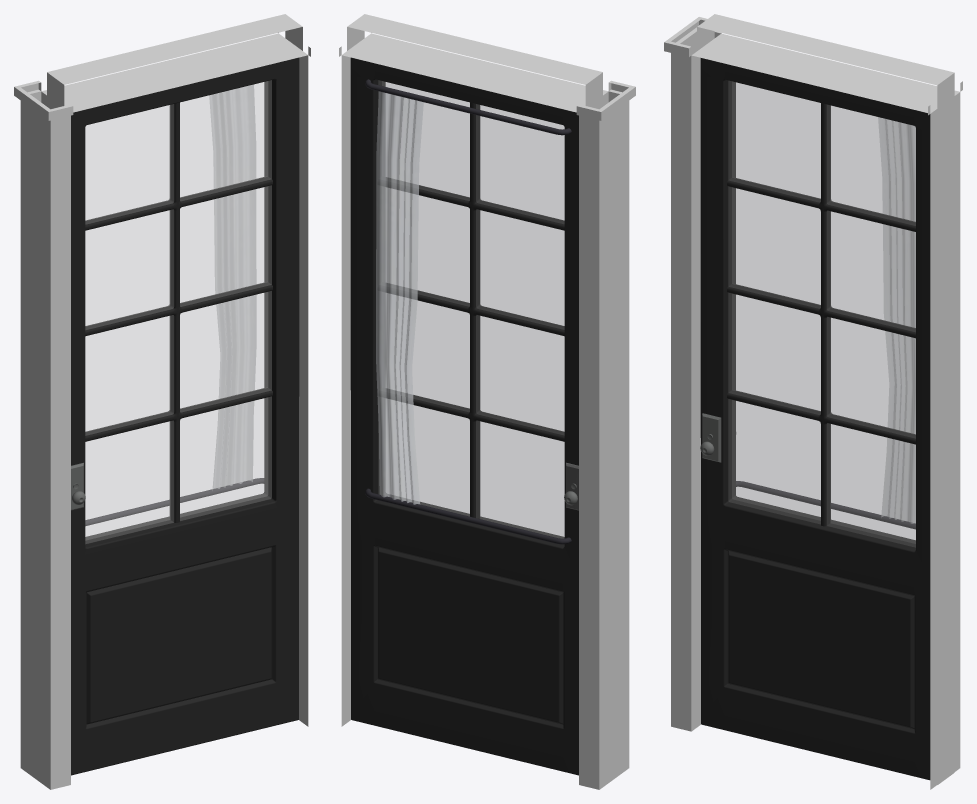
File: american-house.glb
3 views of the same model, side by side, from view 1: azimuth 30°, elevation 25°; view 2: azimuth 150°, elevation 25°; view 3: azimuth 330°, elevation 25° (orthographic).
Parts seen in each view (by area): view 1: Object_33, Object_34, Object_9, Object_37, Object_36, Object_35; view 2: Object_33, Object_34, Object_9, Object_37, Object_36, Object_35; view 3: Object_33, Object_34, Object_9, Object_37, Object_36, Object_35.
Part boxes in pixels (x1,y1,x2,y2): Object_33: [71, 57, 299, 775]; Object_34: [85, 80, 271, 543]; Object_9: [14, 14, 310, 789]; Object_37: [209, 84, 256, 490]; Object_36: [85, 478, 264, 525]; Object_35: [71, 462, 85, 510]; Object_33: [350, 57, 578, 775]; Object_34: [378, 80, 564, 538]; Object_9: [339, 14, 635, 789]; Object_37: [376, 91, 423, 504]; Object_36: [365, 79, 571, 544]; Object_35: [564, 462, 578, 510]; Object_33: [700, 58, 930, 780]; Object_34: [728, 81, 915, 547]; Object_9: [664, 14, 962, 789]; Object_37: [878, 117, 915, 523]; Object_36: [736, 481, 915, 529]; Object_35: [700, 413, 736, 462].
Size of the model in its own units: 0.9801 by 2.48 by 0.2242.
Materials: 6 (3 with a texture image).
